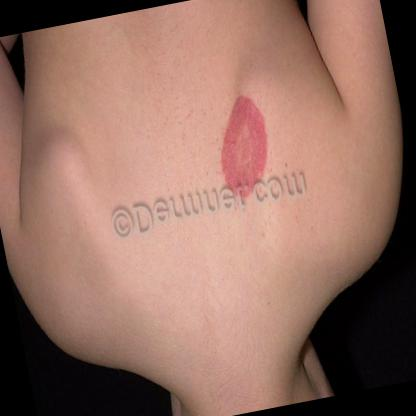Ringworm: (204, 82, 284, 204)
